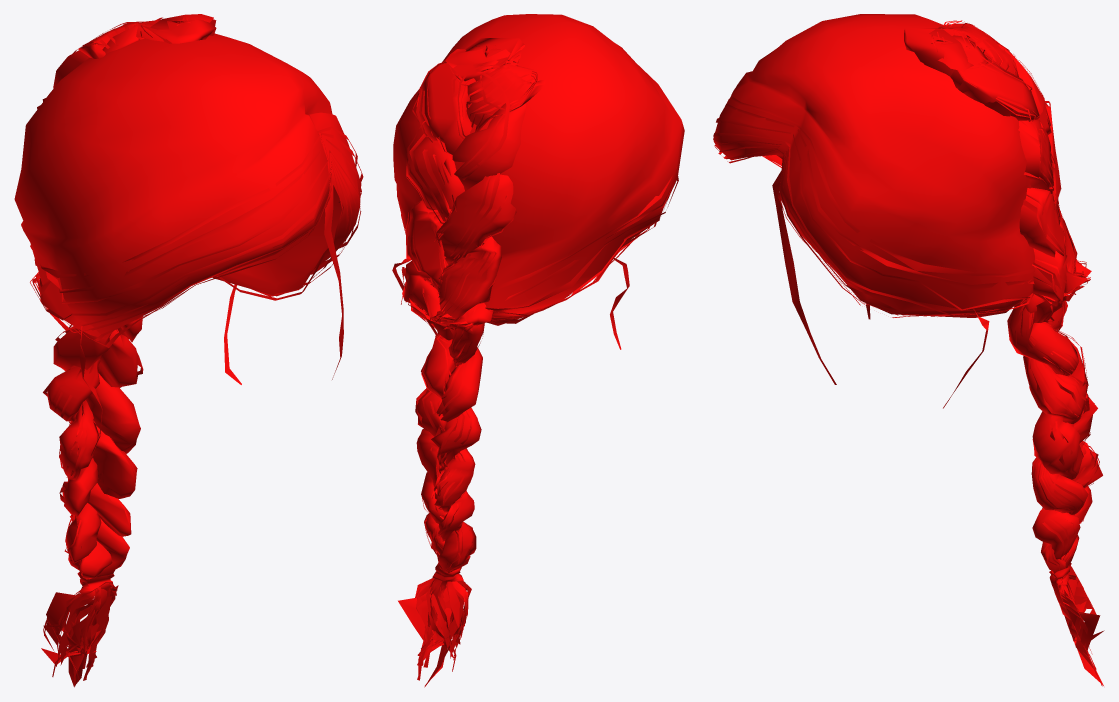
Rendered from elvs_unkempt_french_braid_F.glb.
3 renders of one model, left to right at view 1: azimuth 30°, elevation 25°; view 2: azimuth 150°, elevation 25°; view 3: azimuth 270°, elevation 25°, orthographic. The views are drawn at different scales.
Size of the model in its own units: 0.2104 by 0.5027 by 0.2717.
1 material, 1 textured.
